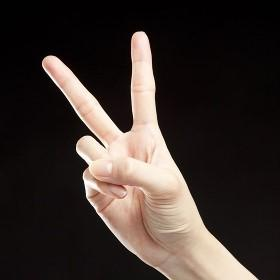tyoki: (41, 30, 187, 255)
